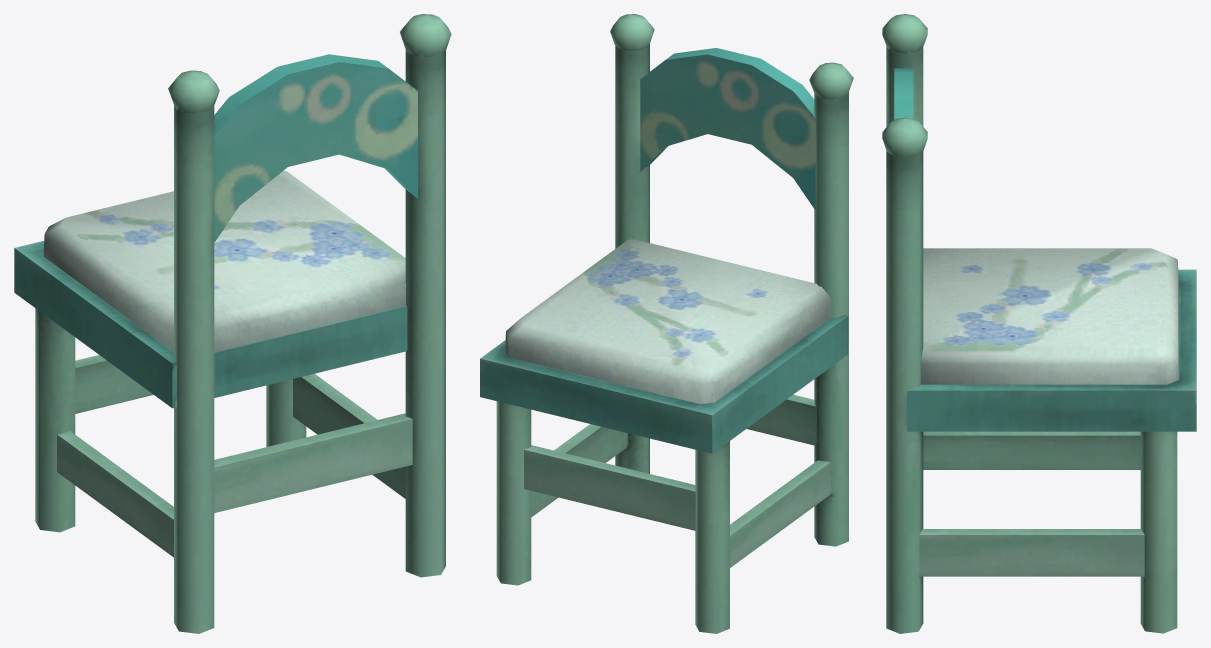
Rendered from furni_0200510_02.FBX.
3 views of the same model, side by side, from view 1: azimuth 30°, elevation 25°; view 2: azimuth 150°, elevation 25°; view 3: azimuth 270°, elevation 25° (orthographic). The views are drawn at different scales.
Parts seen in each view (by area): view 1: furni_0200510_02; view 2: furni_0200510_02; view 3: furni_0200510_02.
Boxes of the visible parts, x1,y1,x2,y2 form: furni_0200510_02: [14, 14, 451, 633]; furni_0200510_02: [480, 14, 853, 633]; furni_0200510_02: [882, 14, 1196, 633].
Bounding box in the file's own units: 43.21 × 82.42 × 46.35.
Materials: 1 (1 with a texture image).
